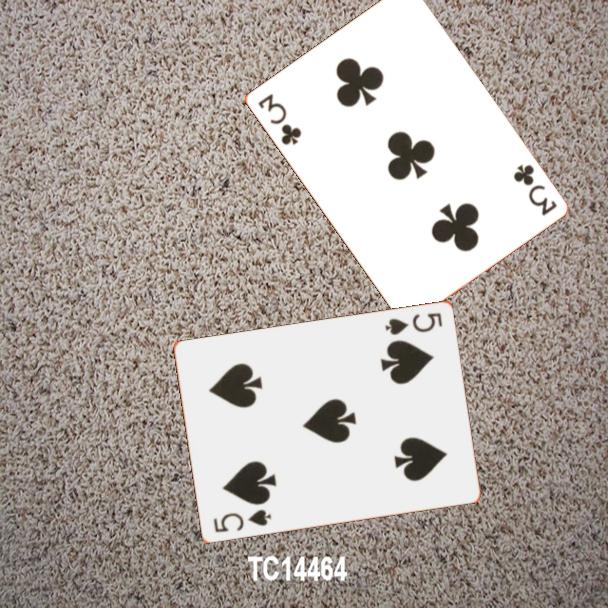c03: (509, 160, 560, 219), (254, 90, 304, 148)
s05: (210, 506, 274, 536), (381, 309, 445, 338)
